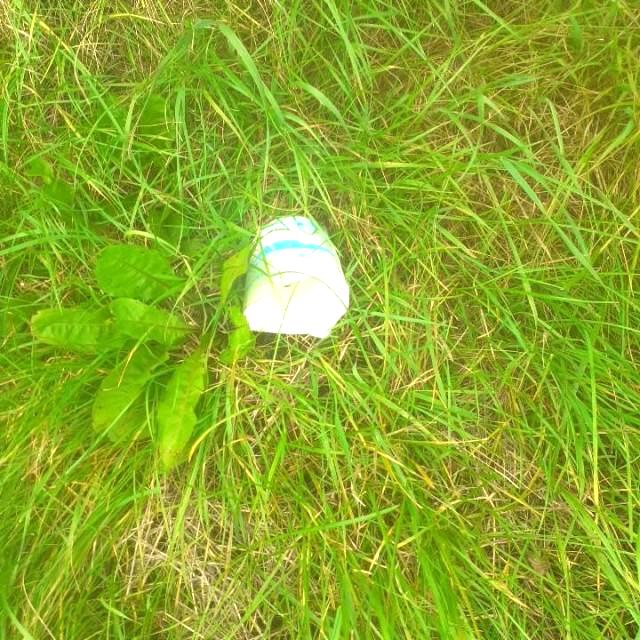Paper: (240, 214, 350, 340)
